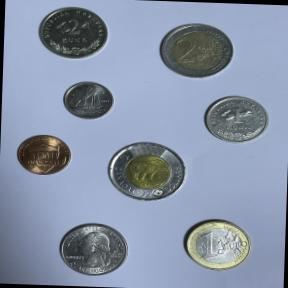1 Euro: (177, 213, 254, 274)
2 Euro: (152, 17, 238, 82)
Canda-10cent-: (55, 77, 118, 124)
Canda-2Dollar-: (102, 136, 192, 208)
Croatia-2Kune-: (34, 3, 112, 64)
US-1cent-: (10, 131, 76, 181)
US-25cent-: (50, 218, 134, 280)
